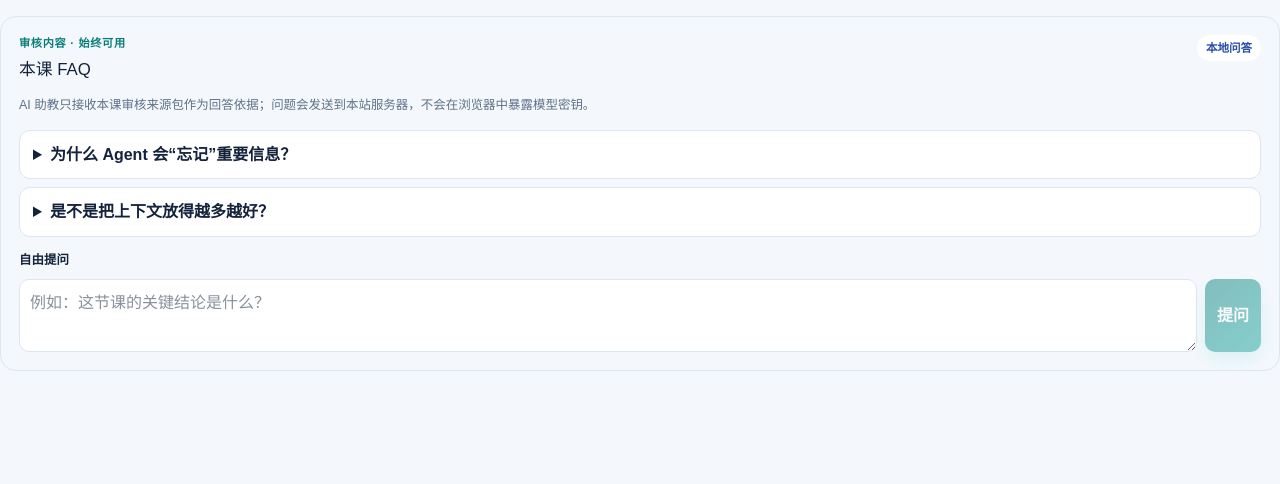
it: FaqPanel › cancels a request and ignores its late response after a successful retry
This screenshot has width=1280, height=484.
Type "什么是上下文？" into the text box labelled "自由提问" at {"x": 608, "y": 316}, box [19,279,1197,352]
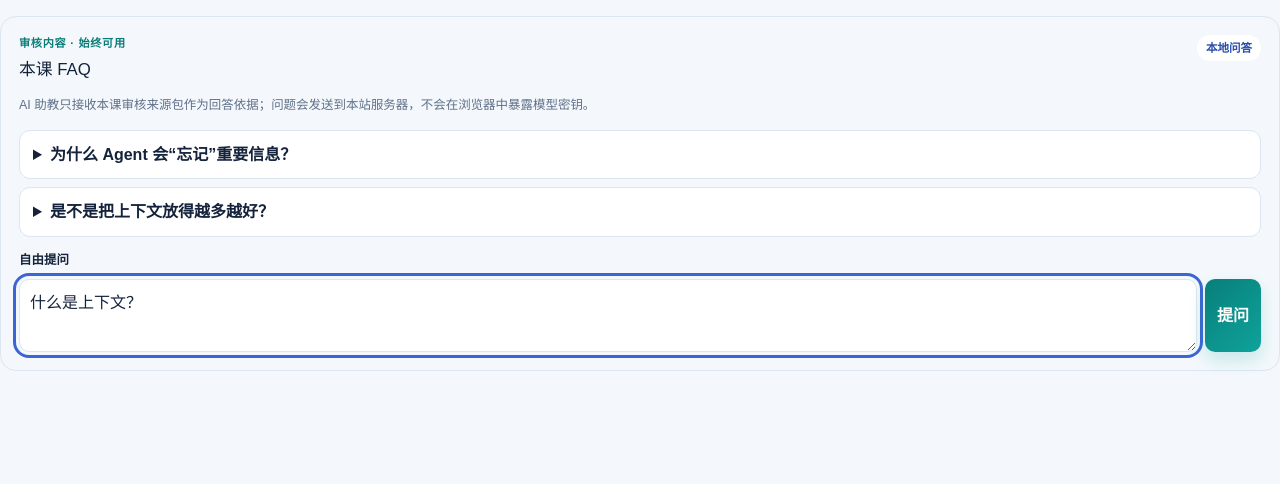
Click the button "提问" at {"x": 1233, "y": 316}, box [1205,279,1261,352]
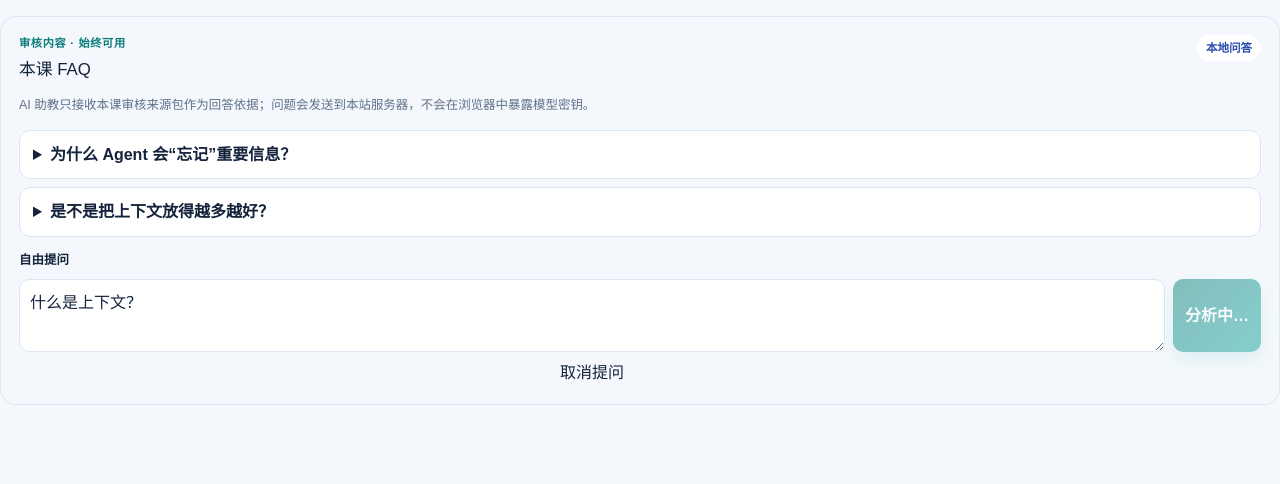
Expected: the text box labelled "自由提问" is disabled, [19,279,1165,352]
Click the button "取消提问" at {"x": 592, "y": 373}, box [19,360,1165,386]
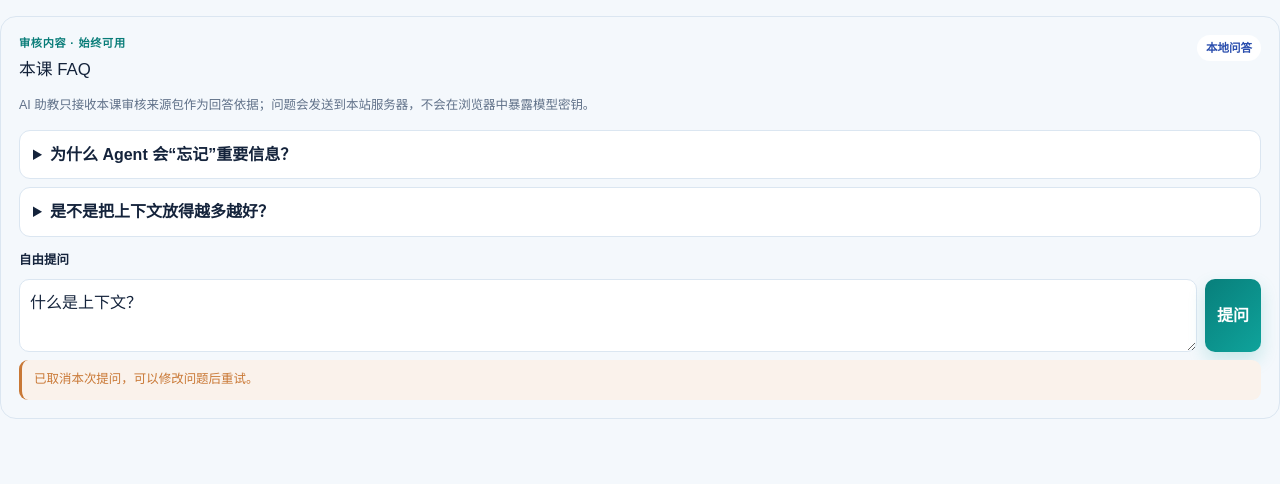
Expected: the message shows "已取消", [19,360,1261,400]
Click the button "提问" at {"x": 1233, "y": 316}, box [1205,279,1261,352]
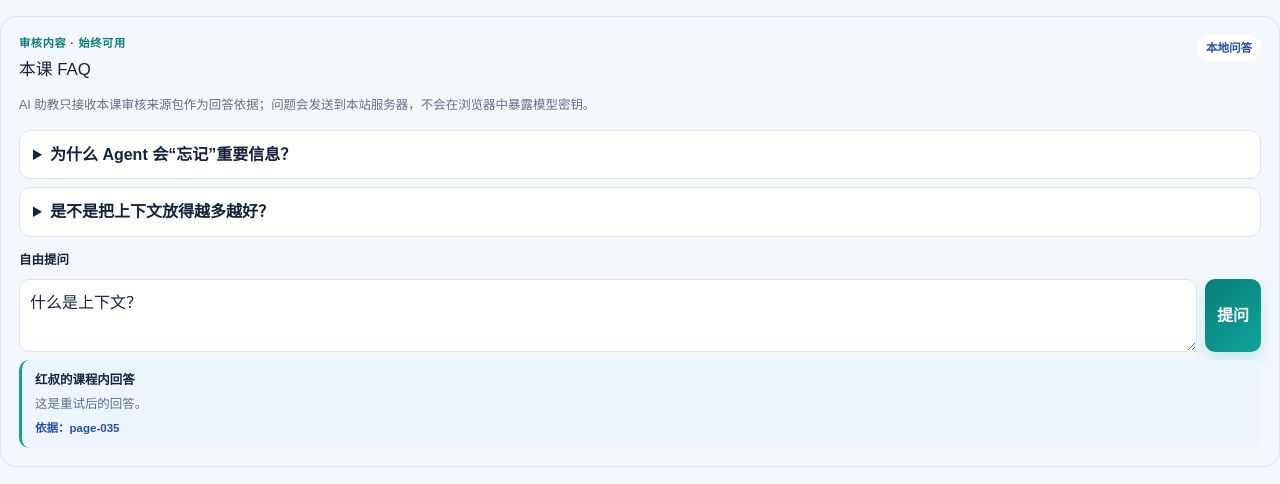
Expected: the text "这是重试后的回答。" is shown, [35,397,147,411]
